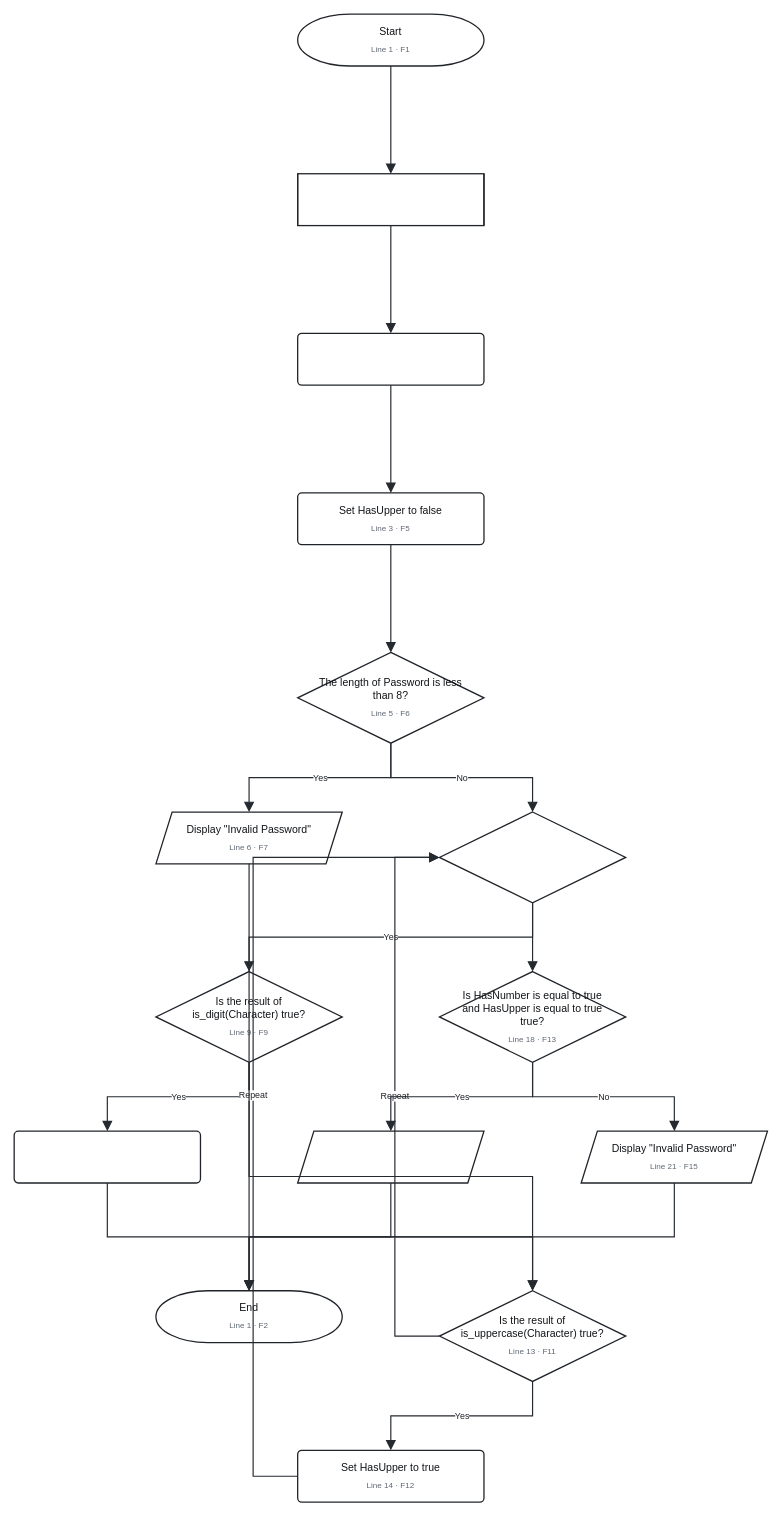
Image size: 782x1517. Some labels were removed from this diagram. Each missing label, with the box of its shape:
Display "Valid Password" Line 19 · F14: (297, 1130, 484, 1183)
For each Character in Password Line 8 · F8: (438, 811, 626, 903)
Run function unnamed_function with Password Line 1 · F3: (297, 173, 484, 226)
Set HasNumber to false Line 2 · F4: (297, 332, 484, 385)
Set HasNumber to true Line 10 · F10: (13, 1130, 201, 1183)
